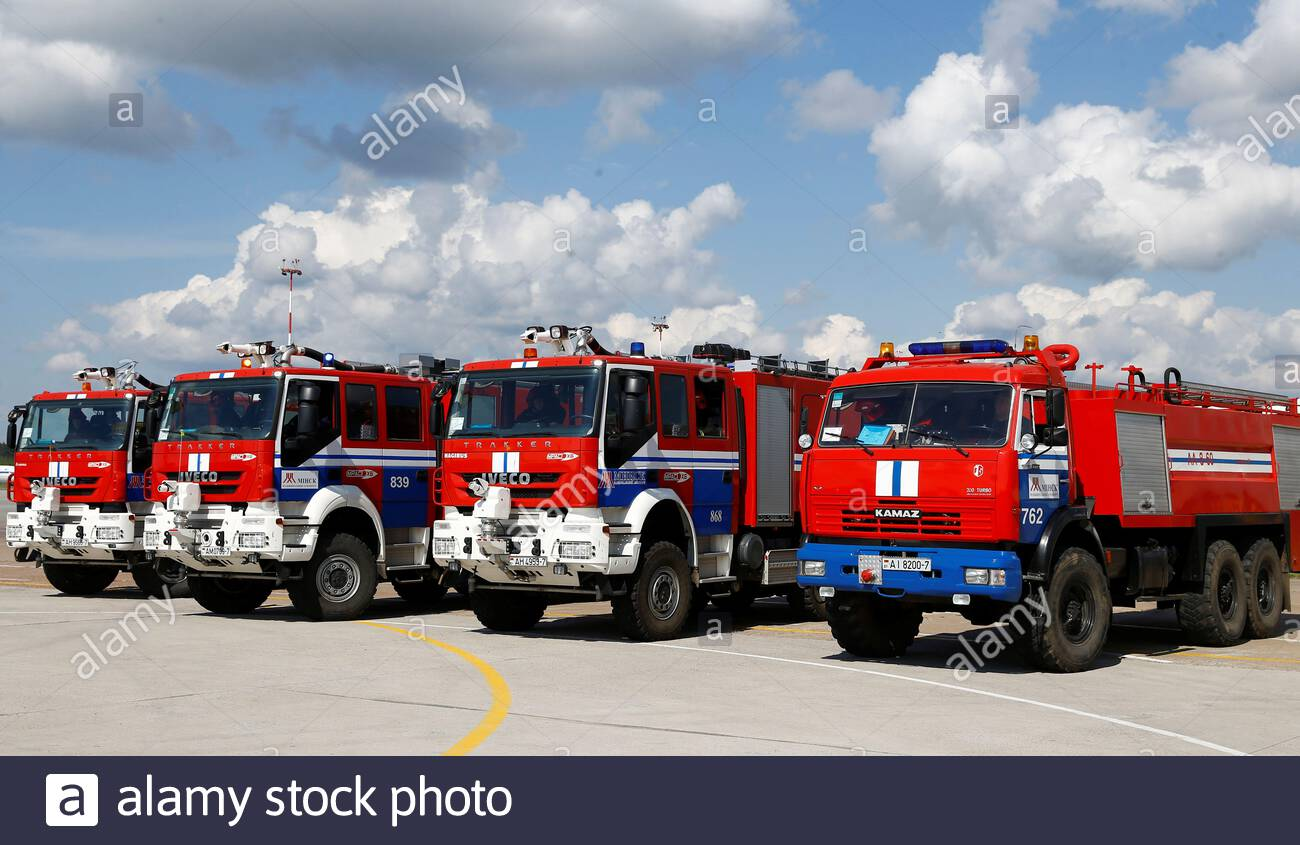special: (804, 344, 1296, 661), (436, 342, 800, 646), (154, 356, 433, 623), (6, 377, 156, 600)
